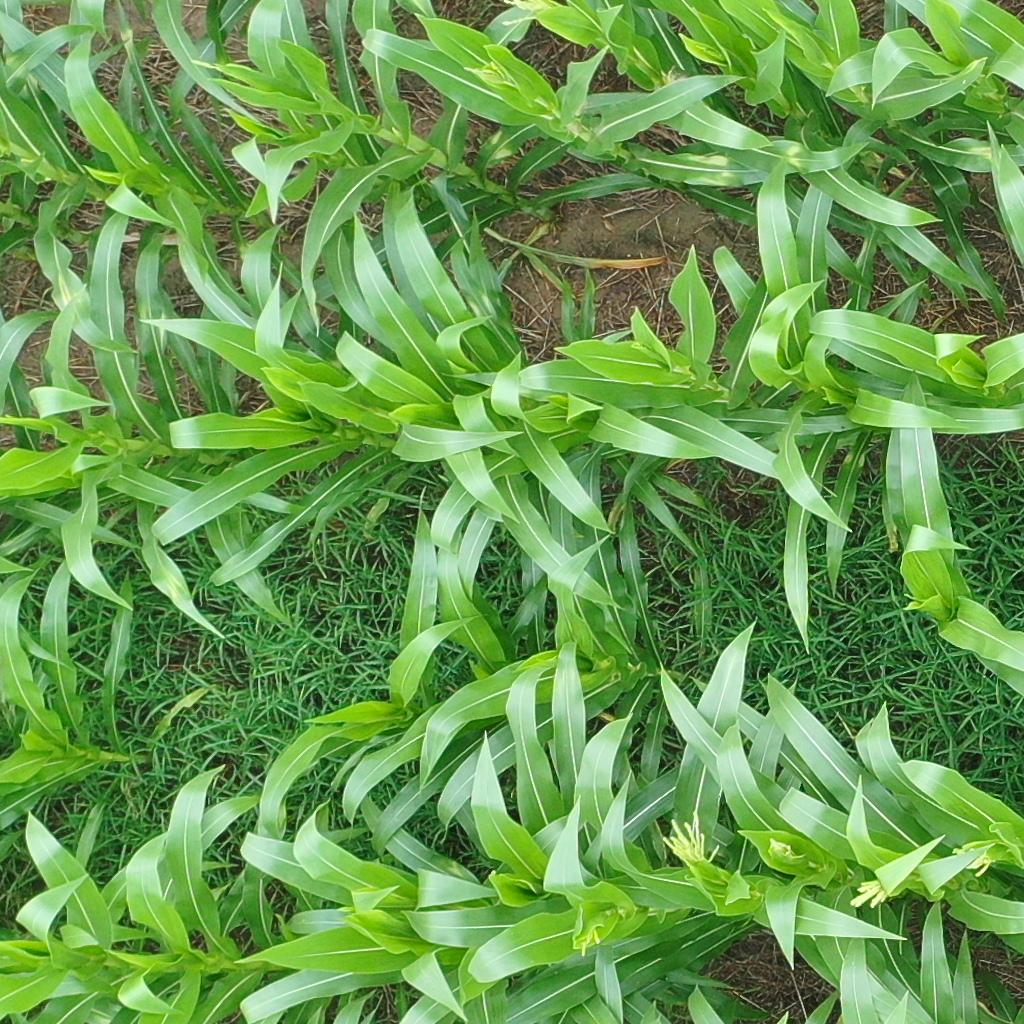Tassel: (660, 809, 720, 868), (189, 54, 260, 85), (951, 843, 997, 879), (497, 1, 560, 26), (849, 872, 889, 910), (465, 62, 509, 83), (577, 925, 604, 959), (767, 837, 791, 857)
